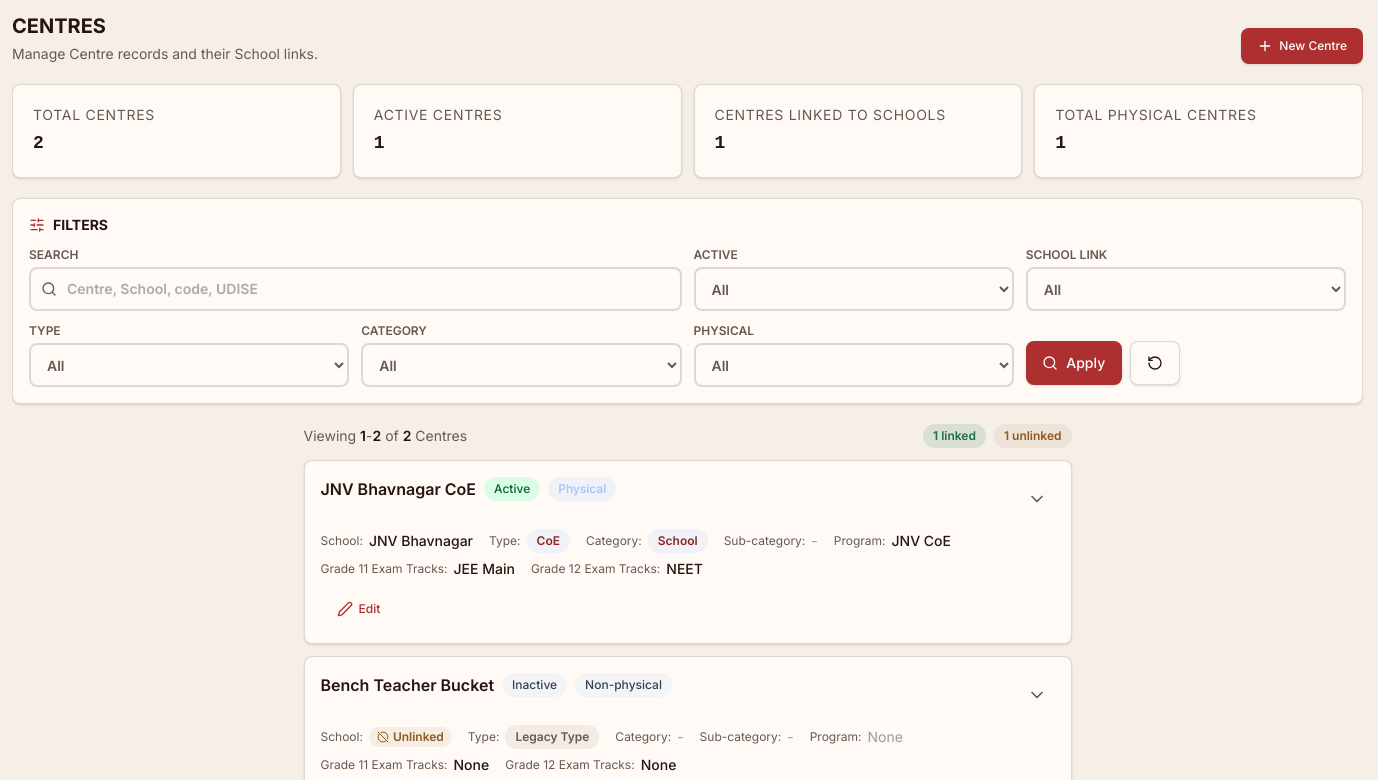
Test: CentreGrid › loads Centres through API-supported filters when filters are applied
Type "bench" into the field labelled "Search" at (355, 289), box [29,267,682,311]
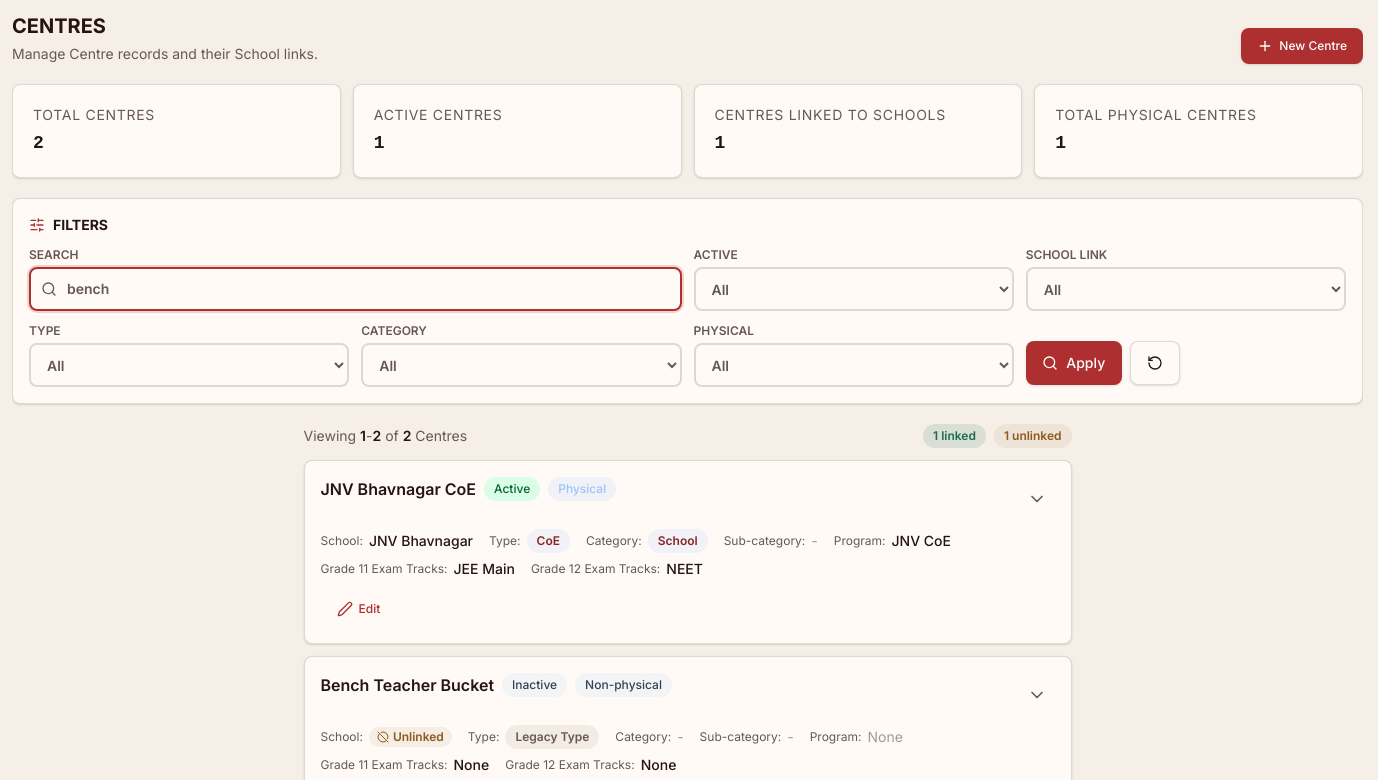
Select "Inactive" in the dropdown labelled "Active" at (854, 289), box [694,267,1014,311]
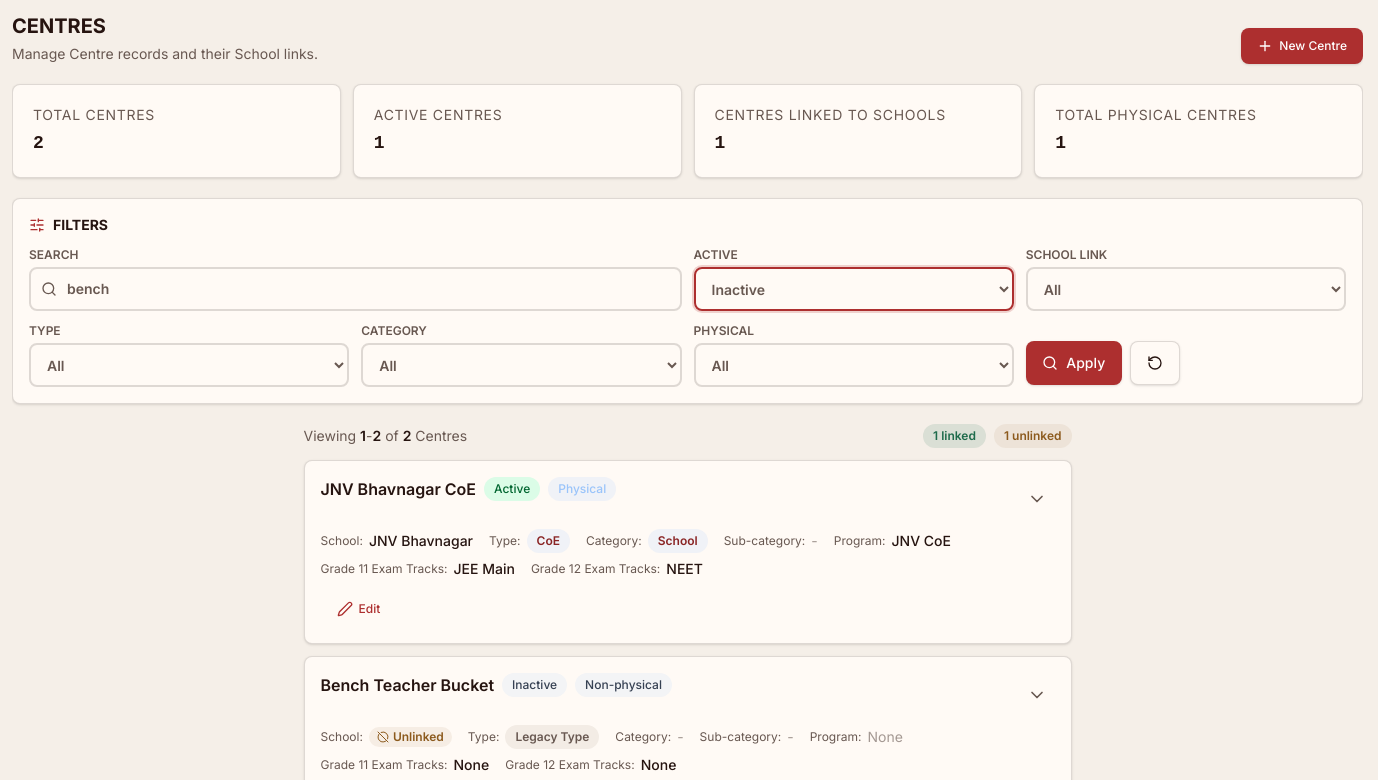
Select "Unlinked" in the dropdown labelled "School Link" at (1186, 289), box [1026,267,1346,311]
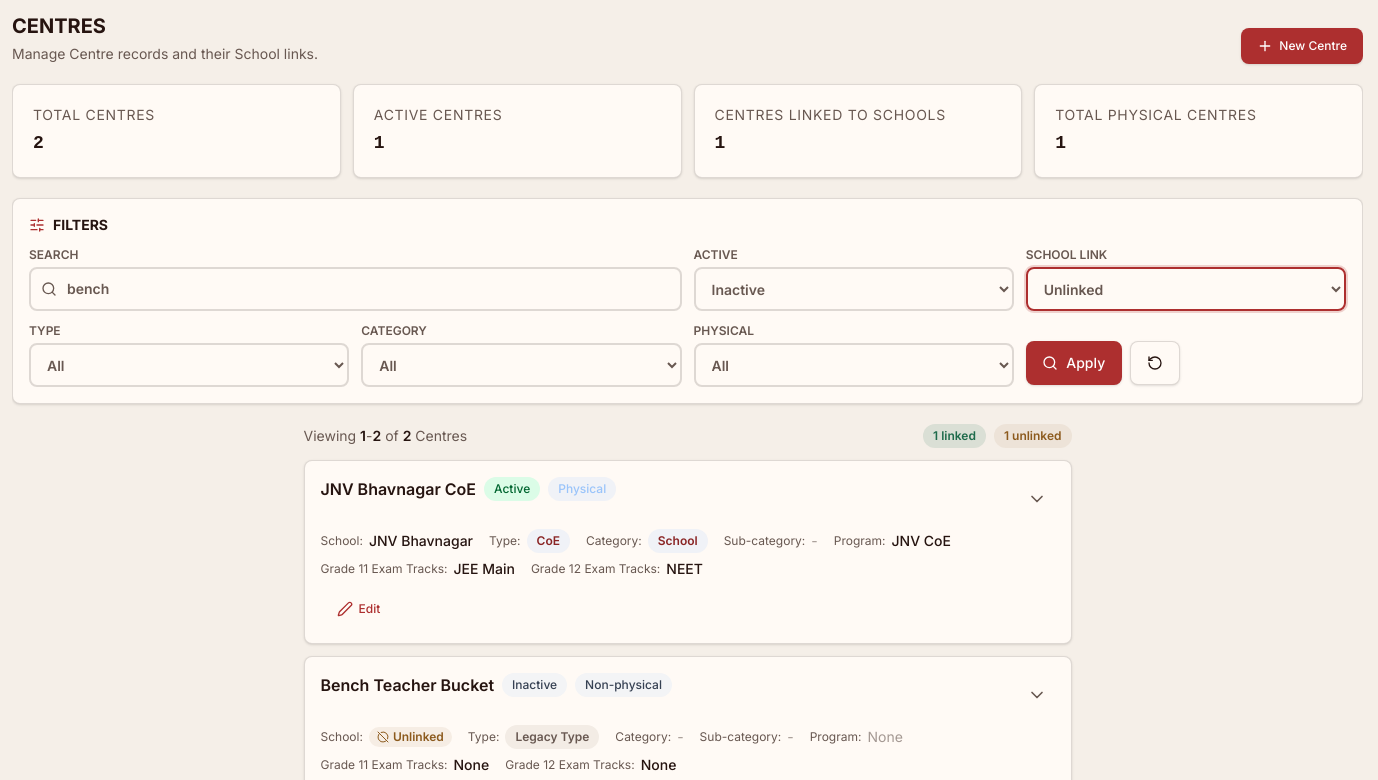
Click the button "Apply" at (1074, 363), box [1026,341,1122,385]
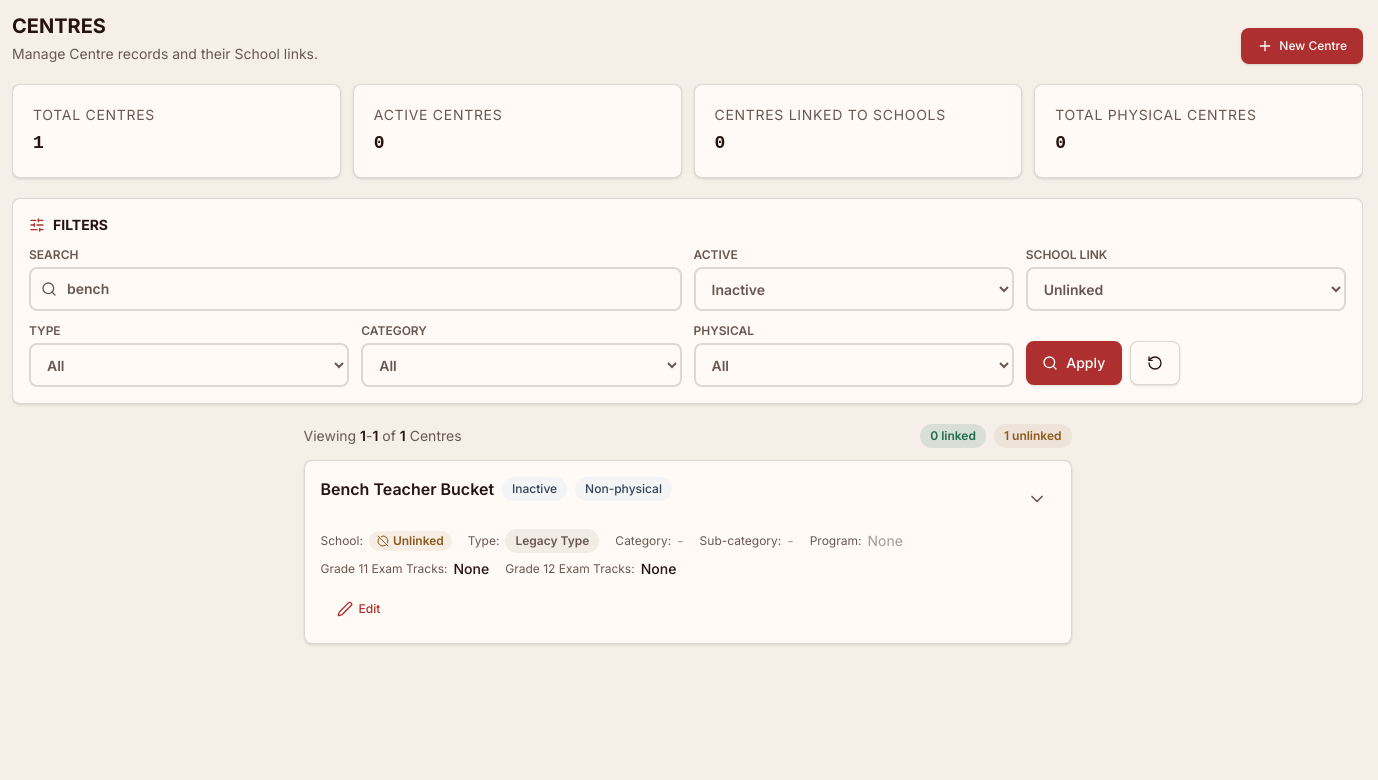
Check: the heading "Bench Teacher Bucket" is shown, box [320,477,494,501]
Check: the heading "JNV Bhavnagar CoE" is gone
